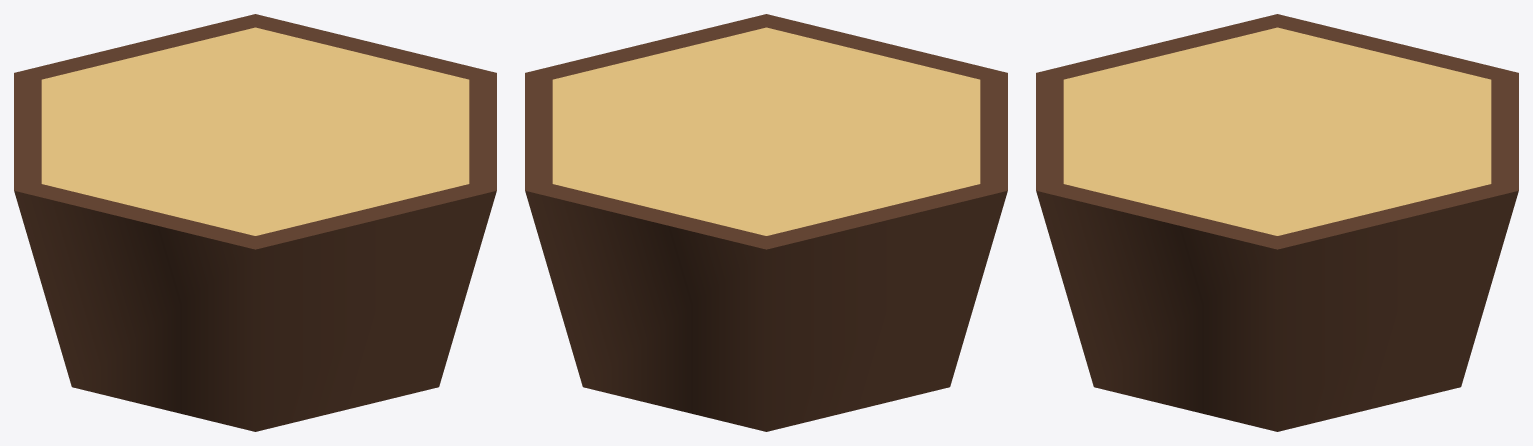
Rendered from nata.fbx.
3 views of the same model, side by side, from view 1: azimuth 30°, elevation 25°; view 2: azimuth 150°, elevation 25°; view 3: azimuth 270°, elevation 25° (orthographic).
Parts seen in each view (by area): view 1: Nata; view 2: Nata; view 3: Nata.
Boxes of the visible parts, <box> form: Nata: <box>14,14,496,431</box>; Nata: <box>525,14,1007,431</box>; Nata: <box>1036,14,1518,431</box>.
Bounding box in the file's own units: 0.12 × 0.05 × 0.1039.
